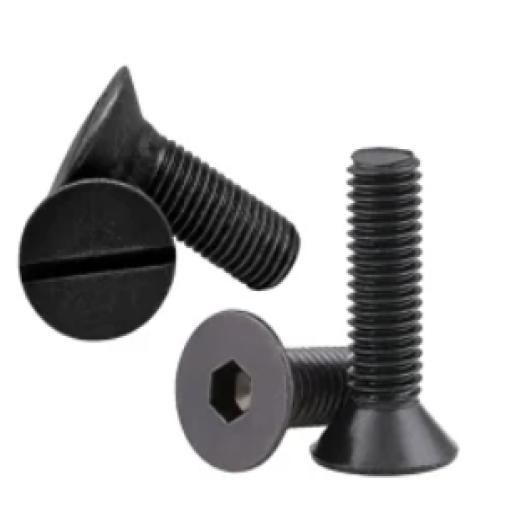Hex-Allen: (170, 320, 300, 471)
Slotted: (19, 179, 177, 342)
